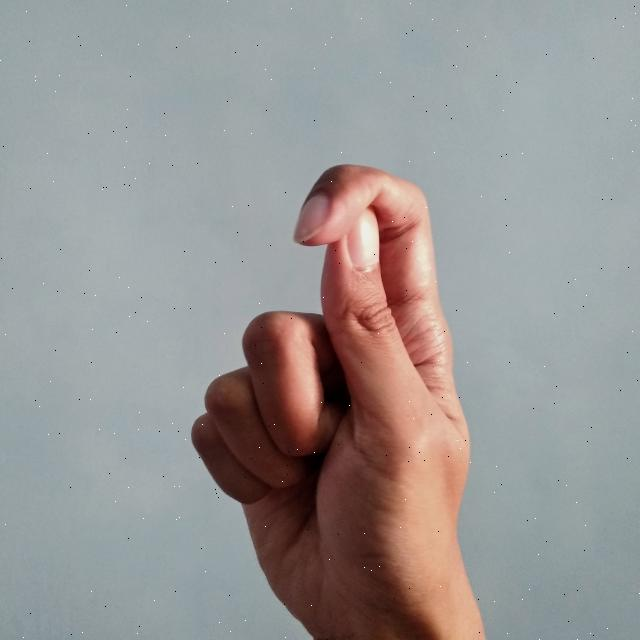T: (188, 160, 490, 640)
